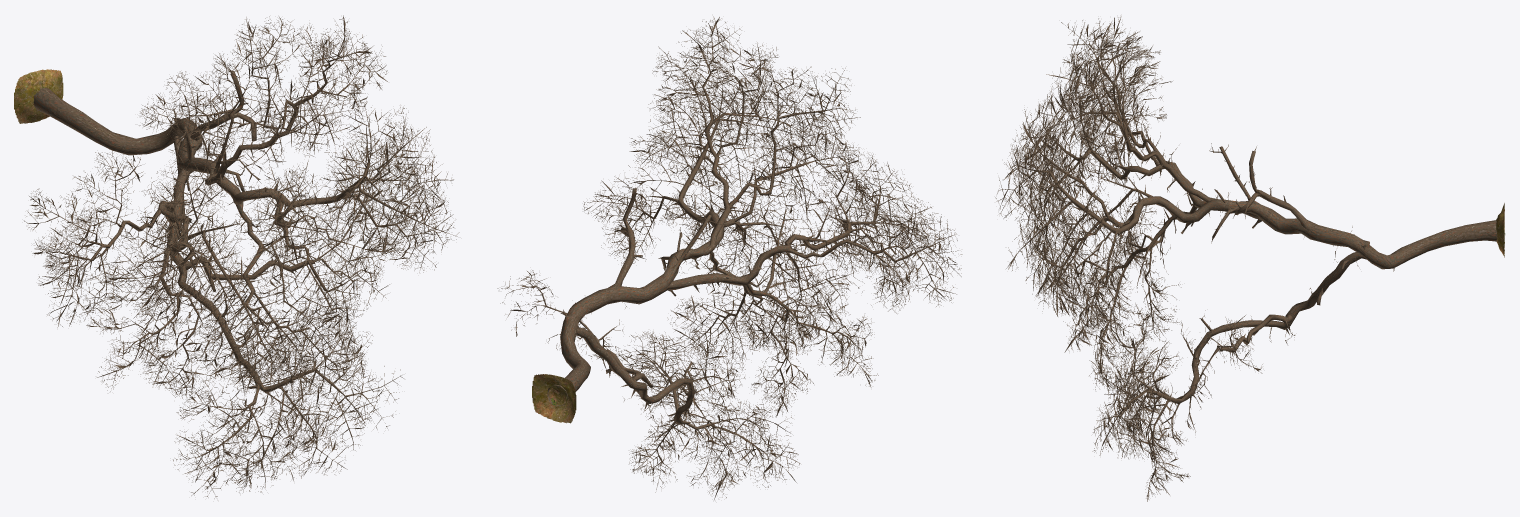
File: monterey2.glb
3 renders of one model, left to right at view 1: azimuth 30°, elevation 25°; view 2: azimuth 150°, elevation 25°; view 3: azimuth 270°, elevation 25°, orthographic. The views are drawn at different scales.
Visible parts, largest first — view 1: Monterey pine_02; view 2: Monterey pine_02; view 3: Monterey pine_02.
Boxes of the visible parts, x1,y1,x2,y2 form: Monterey pine_02: [14, 15, 459, 498]; Monterey pine_02: [497, 16, 962, 499]; Monterey pine_02: [995, 16, 1504, 501].
Size of the model in its own units: 15.24 by 16.87 by 17.58.
4 materials, 4 textured.
